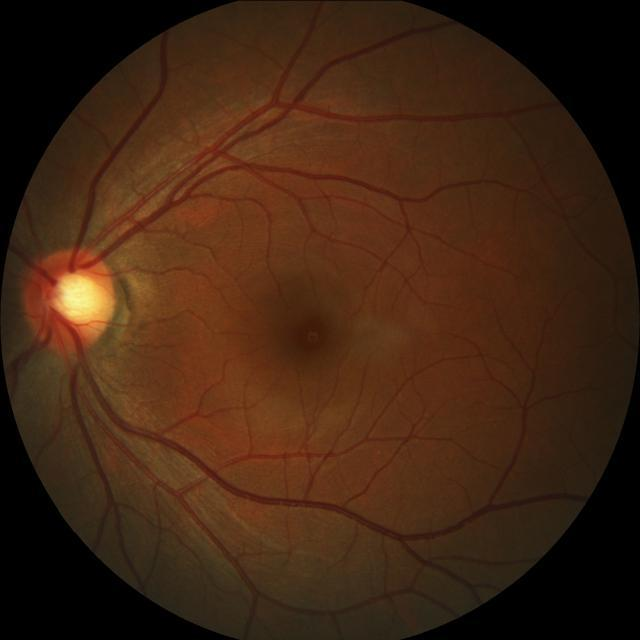OC: (51, 274, 97, 323)
OD: (24, 248, 116, 350)
